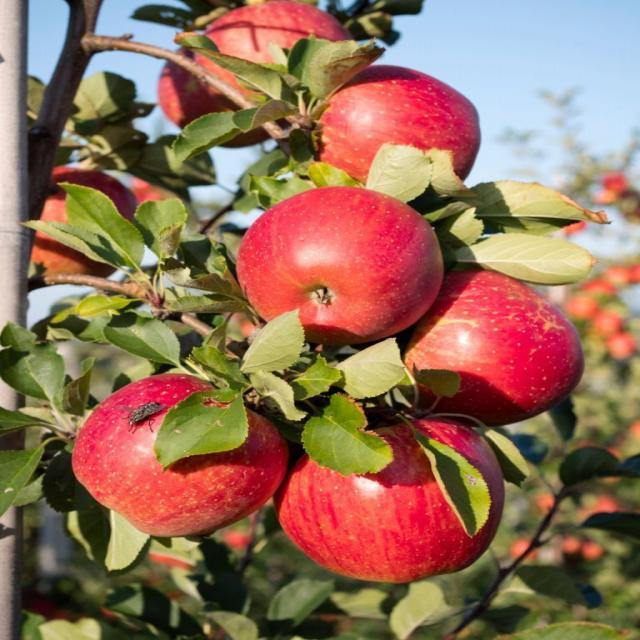Red Apple: (293, 416, 510, 583), (64, 374, 283, 534), (241, 189, 454, 336), (418, 271, 582, 434), (313, 64, 473, 197), (195, 1, 338, 103), (140, 44, 264, 152), (30, 169, 130, 279), (142, 547, 194, 601), (137, 178, 172, 213), (220, 523, 251, 557), (599, 308, 622, 337), (613, 333, 637, 359), (585, 278, 610, 301), (605, 171, 629, 193), (598, 501, 622, 520), (568, 211, 587, 235), (575, 296, 593, 321), (518, 536, 536, 560), (563, 532, 582, 553), (611, 265, 628, 287), (540, 494, 557, 514), (629, 261, 640, 289), (585, 543, 602, 560), (627, 423, 640, 443)
